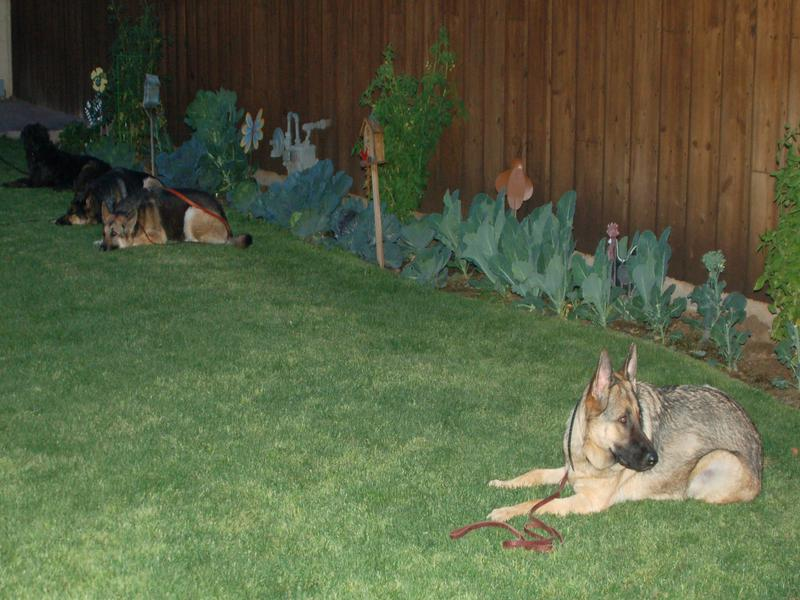dog_down: (488, 344, 767, 525), (97, 197, 254, 254)
